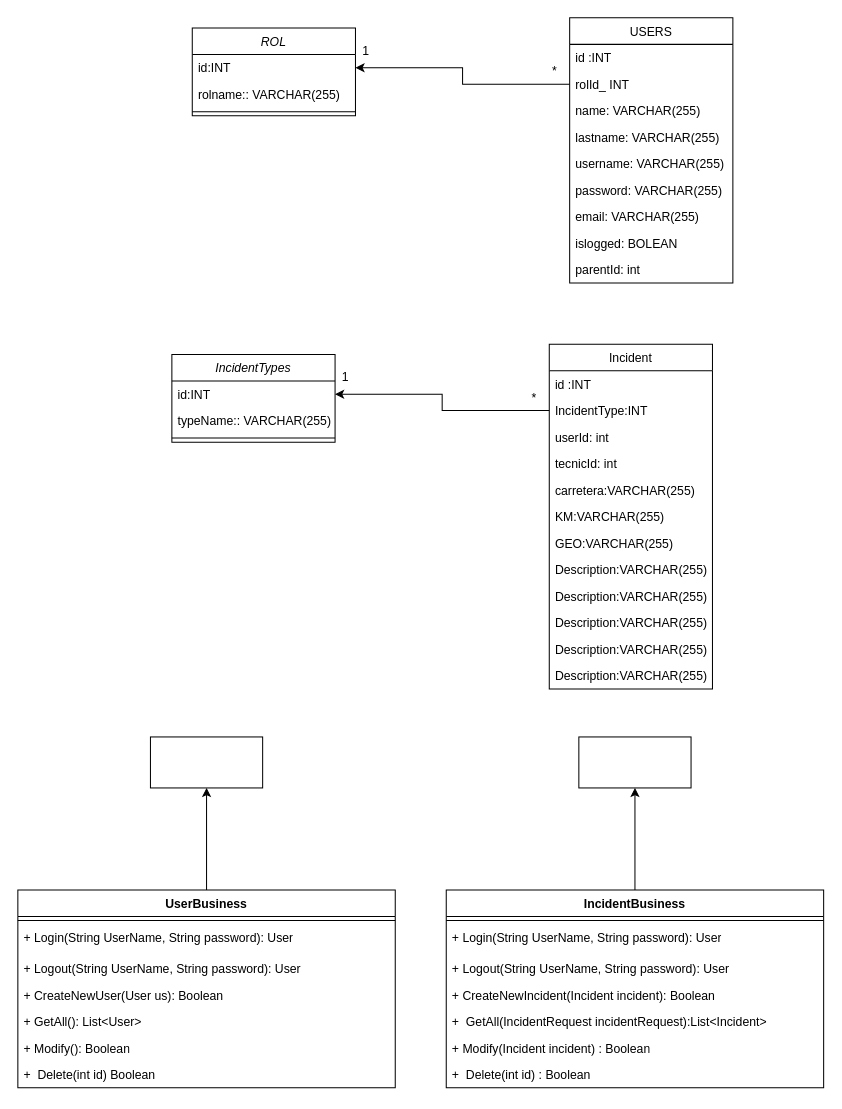
Image size: 842x1109. Some labels were removed from this diagram. Here are the shapes that lost their labels. From the top down, the centre of each, then its label:
At pixel 206 762: "«interface» UserBusiness".
At pixel 634 762: "«interface» IncidentBusiness".
